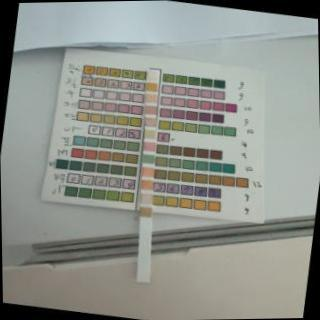mark: (144, 117, 158, 128), (140, 180, 153, 191), (140, 167, 154, 177), (145, 82, 159, 92), (140, 207, 152, 218), (142, 142, 156, 151), (140, 195, 152, 205), (142, 154, 154, 163), (144, 130, 156, 139), (145, 106, 157, 115), (146, 94, 156, 104), (147, 73, 160, 80)
